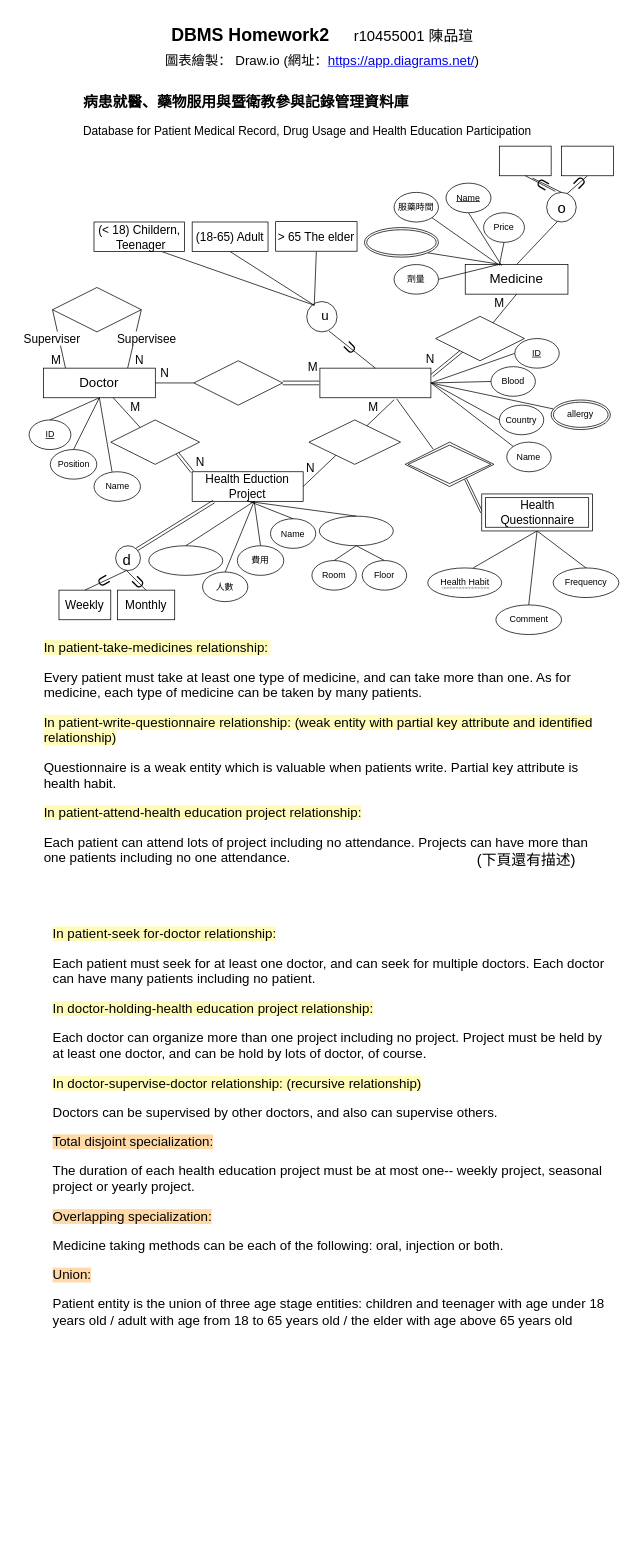
Image size: 632x1560. Some labels were removed from this diagram. The centre of each missing label's shape, as x and y in pixels:
"Attend" belongs at (354,441).
"Holding" belongs at (155,441).
"Injection" belongs at (587,160).
"Oral" belongs at (525,160).
"Patient" belongs at (375,382).
"Place" belongs at (356,530).
"Project ID" belongs at (185,560).
"Seek for" belongs at (238,382).
"Side Effect" belongs at (401,242).
"Supervise" belongs at (96,309).
"Taking" belongs at (479,338).
"Write" belongs at (449,464).
